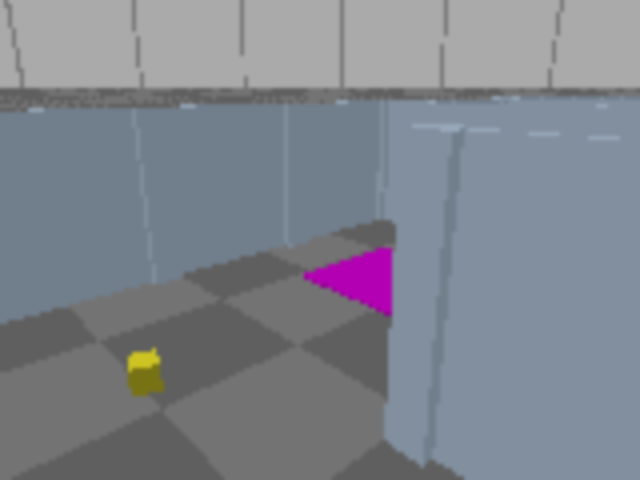goal_zone: (301, 247, 481, 321)
puck: (126, 349, 163, 399)
